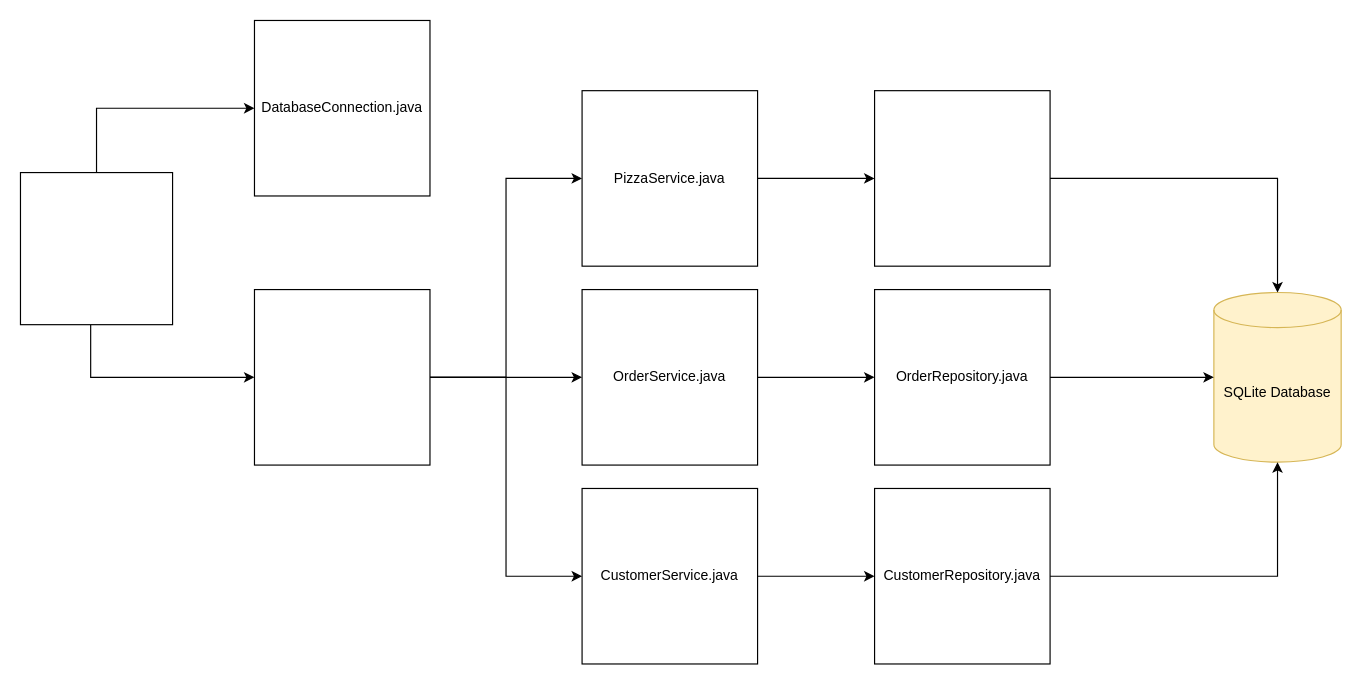
Some shapes in this 1362 by 684 pixel diagram are drawn without their labels. Here are the shapes that lost their labels. From the top down, the centre of each, then its label:
(961,178): PizzaRepository.java
(96,248): Main
(341,376): PizziSalleController.java
